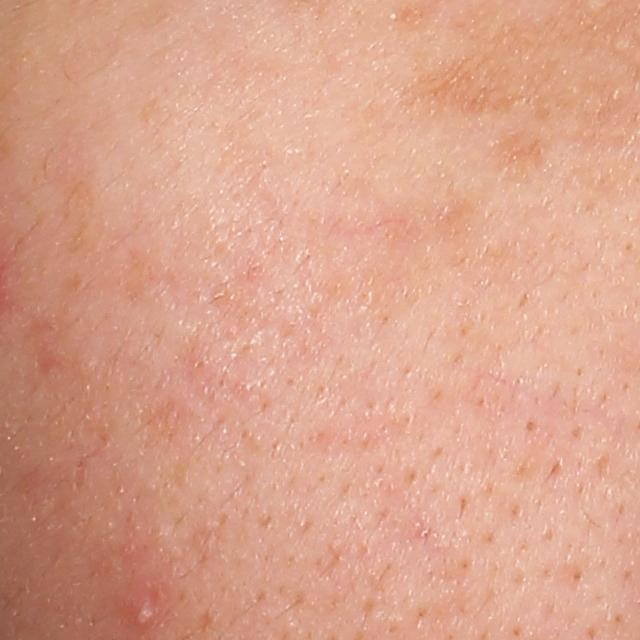melasma: (400, 48, 525, 115), (489, 131, 547, 189)
pustule: (109, 574, 167, 633)
